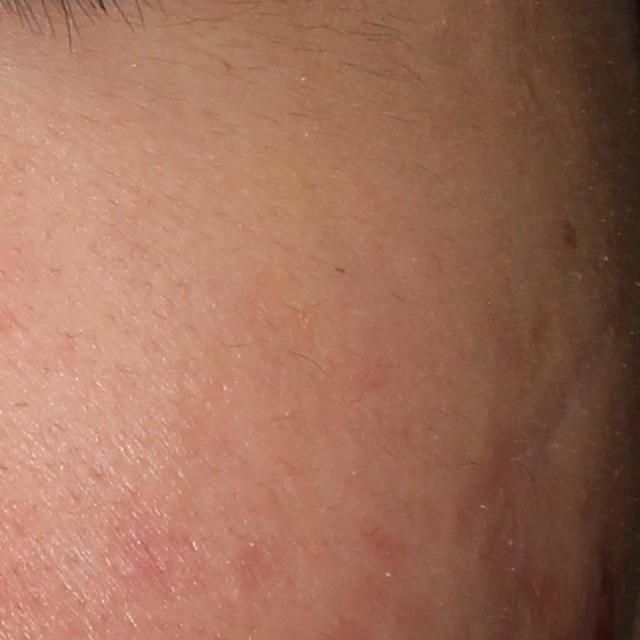nevus: (559, 217, 586, 254)
